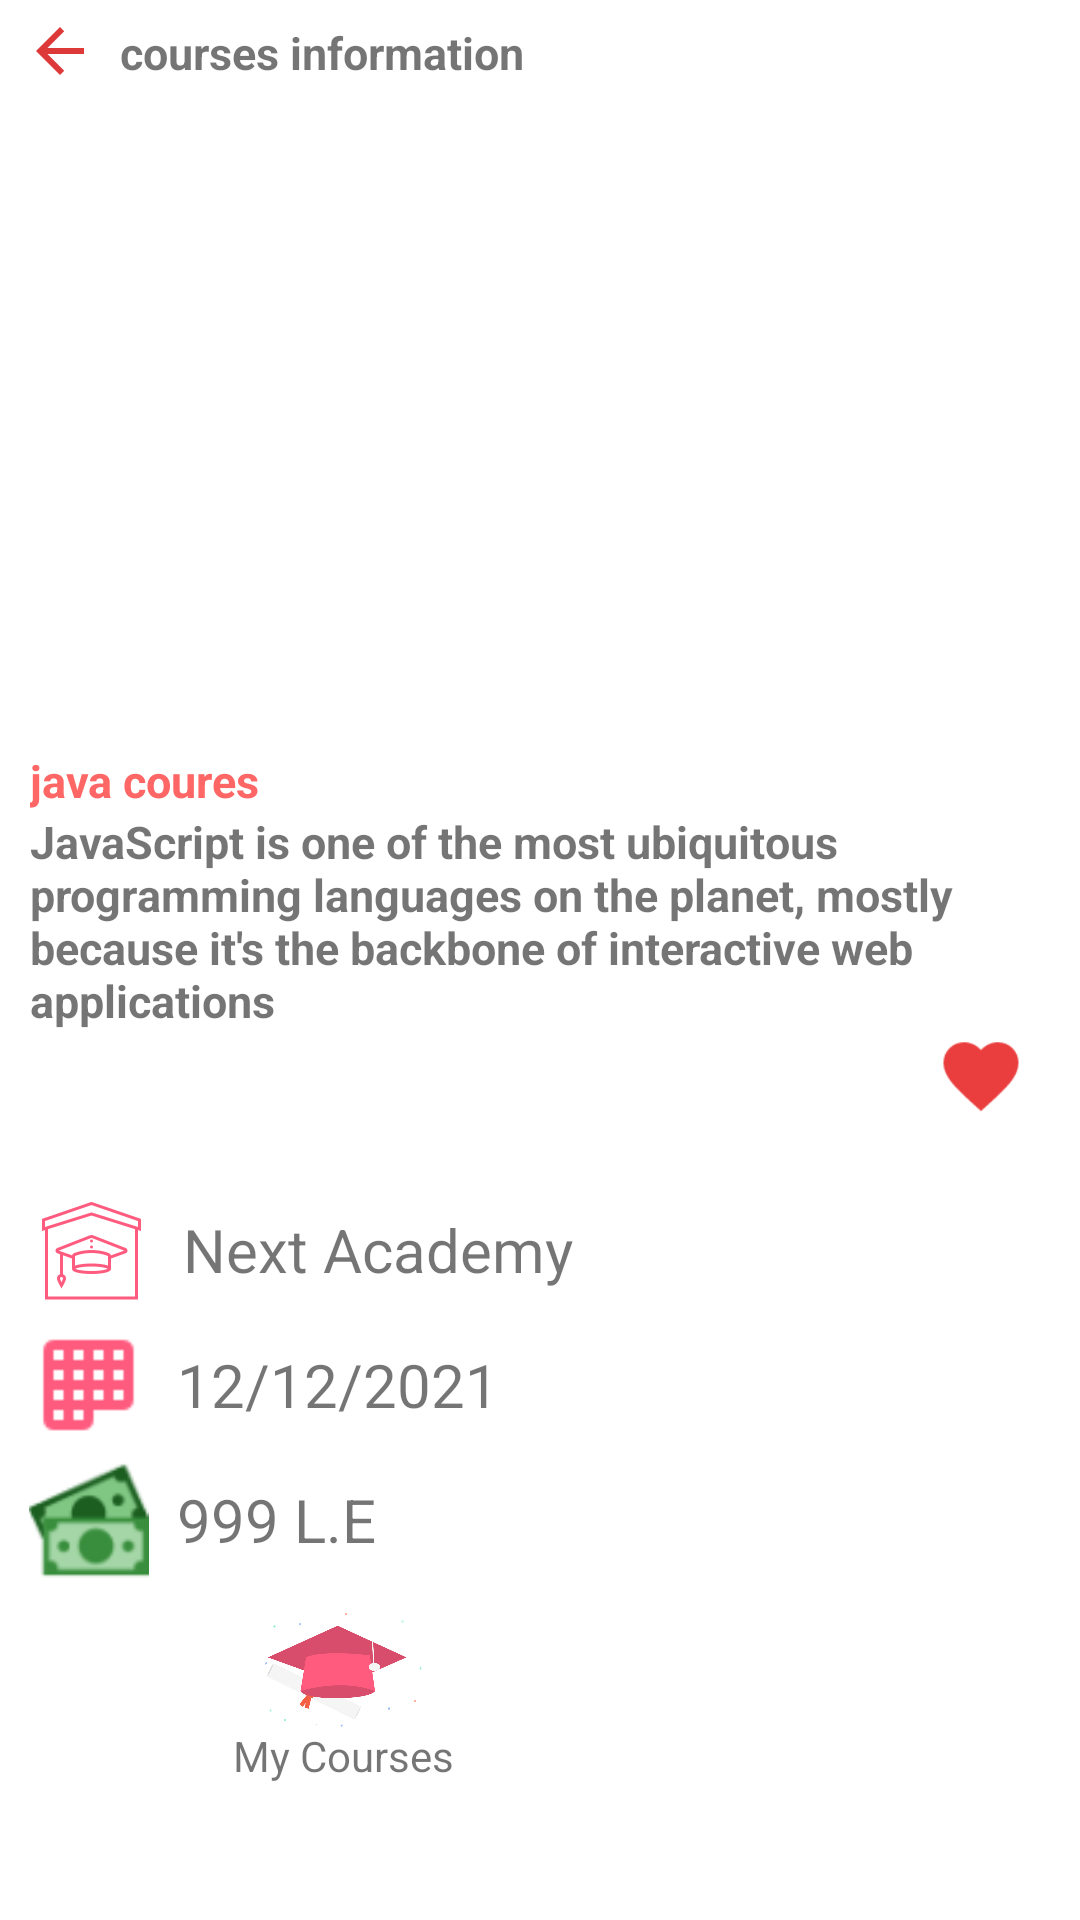

Point at icon controls on the screen. Image size 1080w x 1920h, points as (x,y).
back: (60,51)
favouriteback: (981,1076)
month view: (88,1385)
price: (89,1520)
student center: (91,1251)
